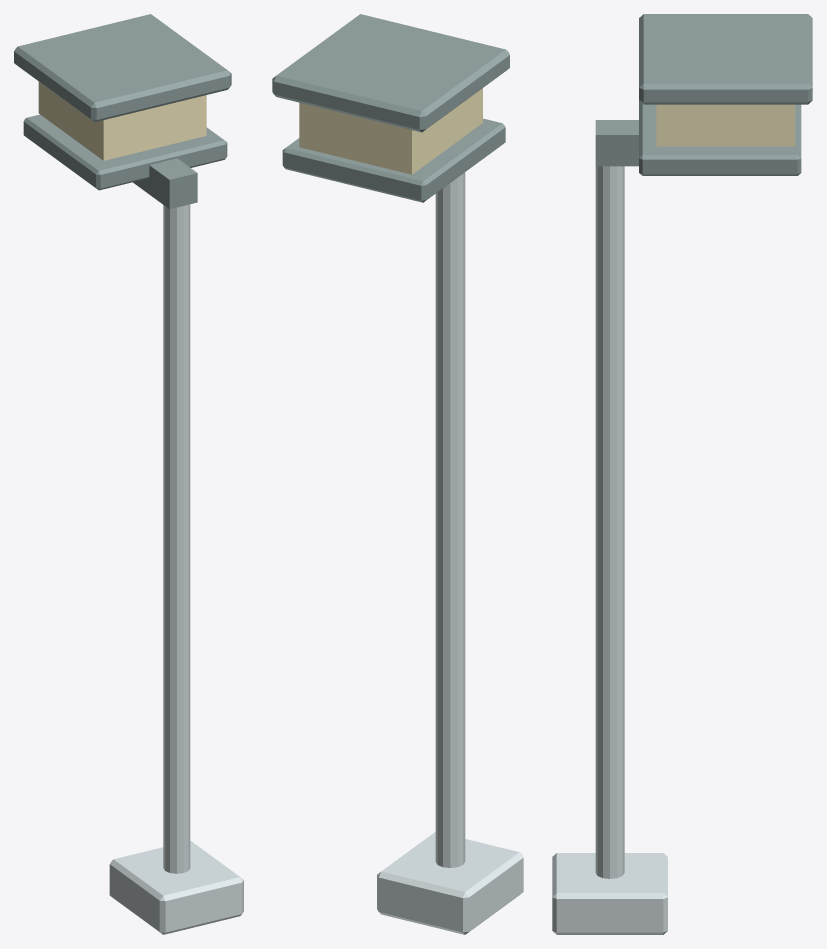
File: street_lamp.glb
3 views of the same model, side by side, from view 1: azimuth 30°, elevation 25°; view 2: azimuth 150°, elevation 25°; view 3: azimuth 270°, elevation 25° (orthographic). The views are drawn at different scales.
Parts seen in each view (by area): view 1: metal, metalDark, lamp; view 2: metal, metalDark, lamp; view 3: metal, metalDark, lamp.
Part boxes in pixels (box(x1,y1,x2,y2)): metal: box(109, 204, 243, 934); metalDark: box(14, 14, 231, 209); lamp: box(38, 82, 206, 160); metal: box(377, 172, 523, 934); metalDark: box(272, 14, 509, 202); lamp: box(299, 88, 482, 174); metal: box(552, 166, 667, 934); metalDark: box(595, 14, 812, 175); lamp: box(656, 104, 795, 146).
Size of the model in its own units: 0.2727 by 1.5 by 0.4091.
